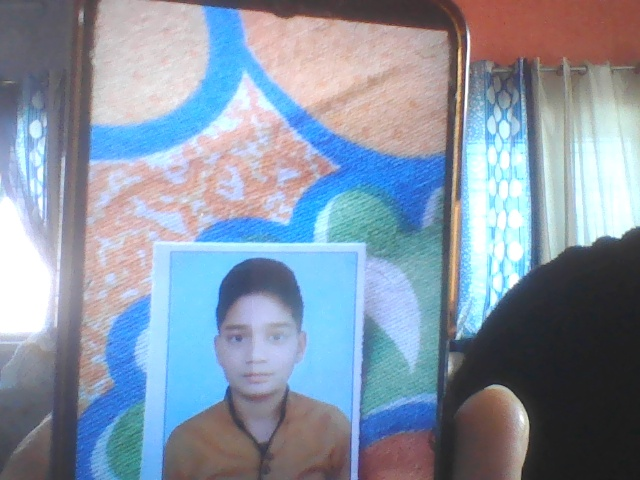fake: (205, 242, 329, 418)
